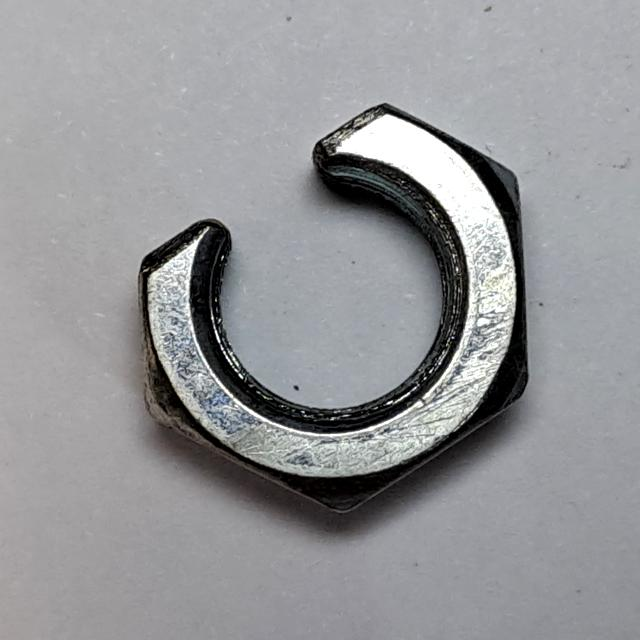Fracture: (117, 87, 542, 533)
